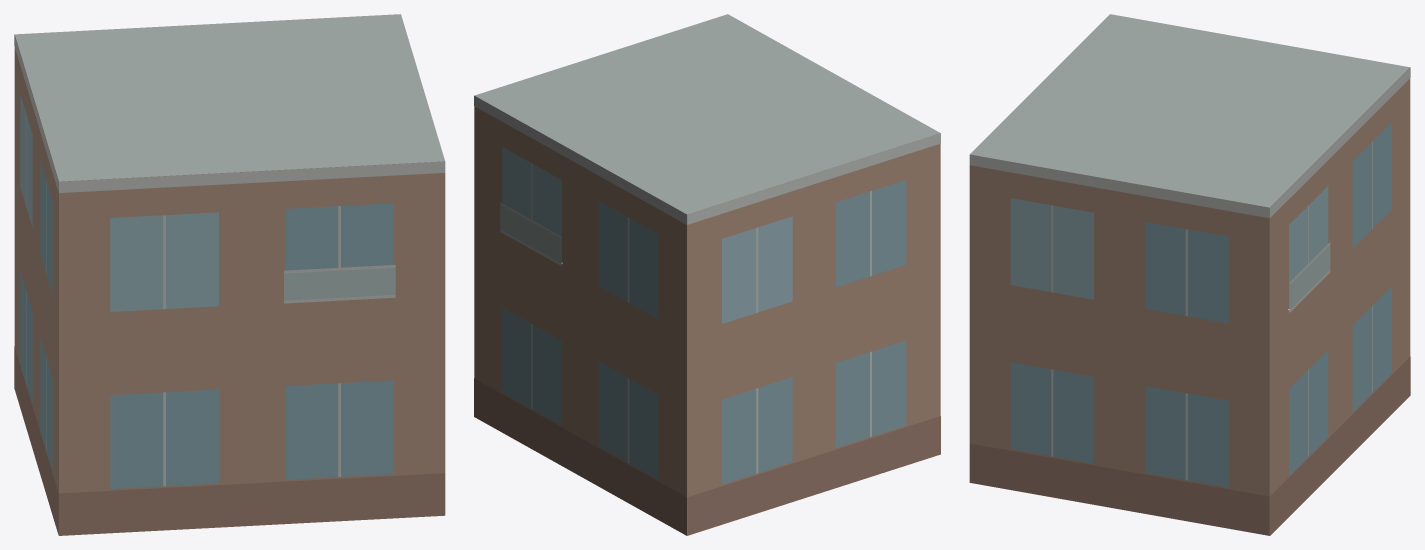
The model's file is survey-upis-33040361.glb.
The picture shows the model from 3 angles, left to right: view 1: azimuth 30°, elevation 25°; view 2: azimuth 150°, elevation 25°; view 3: azimuth 270°, elevation 25°; orthographic projection. The views are drawn at different scales.
Parts seen in each view (by area): view 1: survey-upis-33040361.tmp; view 2: survey-upis-33040361.tmp; view 3: survey-upis-33040361.tmp.
Part boxes in pixels (bbox=[...]): survey-upis-33040361.tmp: bbox=[14, 14, 445, 535]; survey-upis-33040361.tmp: bbox=[474, 14, 940, 535]; survey-upis-33040361.tmp: bbox=[969, 14, 1410, 535].
Bounding box in the file's own units: 9.5 × 7.5 × 9.14.
